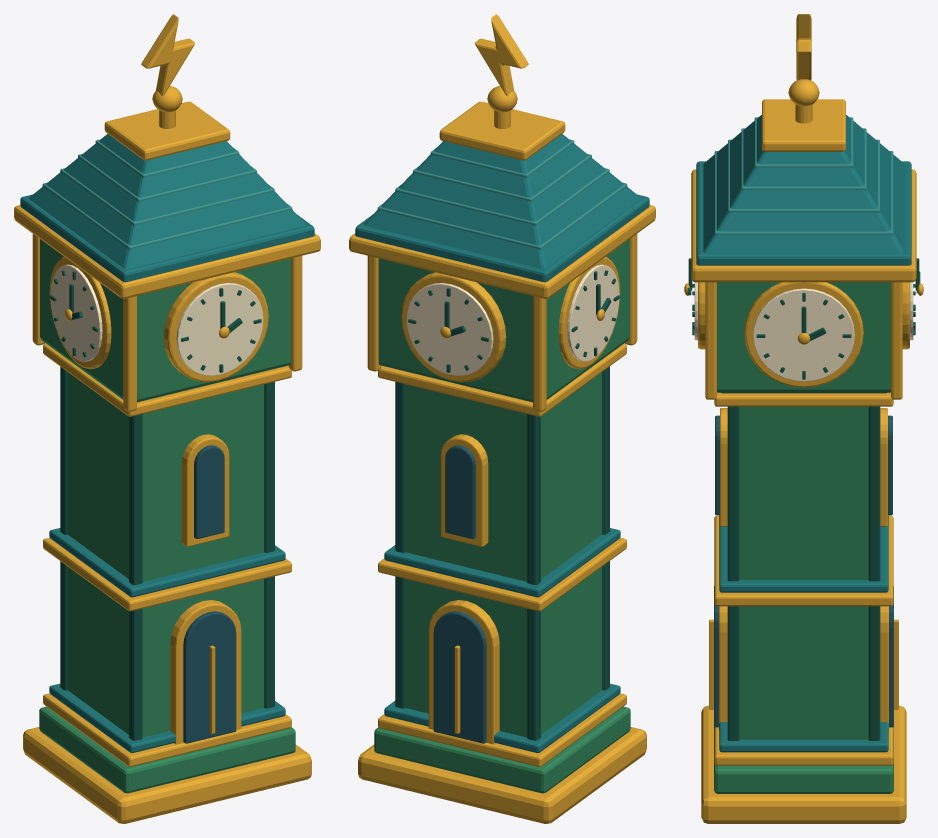
File: clock-tower.glb
The picture shows the model from 3 angles, left to right: view 1: azimuth 30°, elevation 25°; view 2: azimuth 150°, elevation 25°; view 3: azimuth 270°, elevation 25°; orthographic projection. The views are drawn at different scales.
Visible parts, largest first — view 1: Boulevard_green, Boulevard_gold, Boulevard_teal, Boulevard_dark_green, Boulevard_cream, Boulevard_glass, Boulevard_teal_light; view 2: Boulevard_green, Boulevard_gold, Boulevard_teal, Boulevard_dark_green, Boulevard_cream, Boulevard_glass, Boulevard_teal_light; view 3: Boulevard_green, Boulevard_gold, Boulevard_teal, Boulevard_dark_green, Boulevard_cream, Boulevard_teal_light, Boulevard_glass.
Part boxes in pixels (x1,y1,x2,y2): Boulevard_green: [39, 239, 295, 793]; Boulevard_gold: [14, 14, 320, 823]; Boulevard_teal: [20, 134, 314, 752]; Boulevard_dark_green: [50, 270, 274, 740]; Boulevard_cream: [50, 264, 263, 375]; Boulevard_glass: [183, 445, 236, 743]; Boulevard_teal_light: [42, 139, 292, 250]; Boulevard_green: [374, 239, 630, 793]; Boulevard_gold: [349, 14, 655, 823]; Boulevard_teal: [355, 134, 649, 752]; Boulevard_dark_green: [395, 270, 619, 740]; Boulevard_cream: [406, 264, 619, 375]; Boulevard_glass: [433, 445, 486, 743]; Boulevard_teal_light: [377, 139, 627, 250]; Boulevard_green: [714, 282, 893, 793]; Boulevard_gold: [684, 14, 923, 823]; Boulevard_teal: [696, 115, 911, 752]; Boulevard_dark_green: [687, 258, 920, 740]; Boulevard_cream: [694, 282, 913, 381]; Boulevard_teal_light: [714, 117, 893, 235]; Boulevard_glass: [714, 415, 893, 727].
Size of the model in its own units: 2.45 by 8.67 by 2.45.
